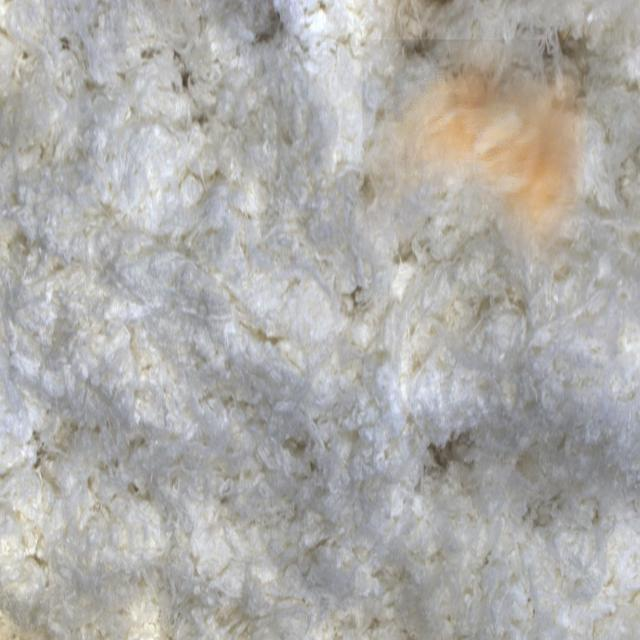dust: (363, 39, 586, 265)
